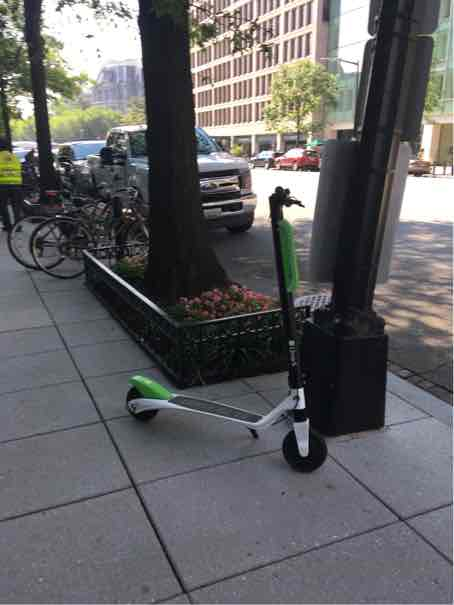scooter: (114, 164, 325, 476)
